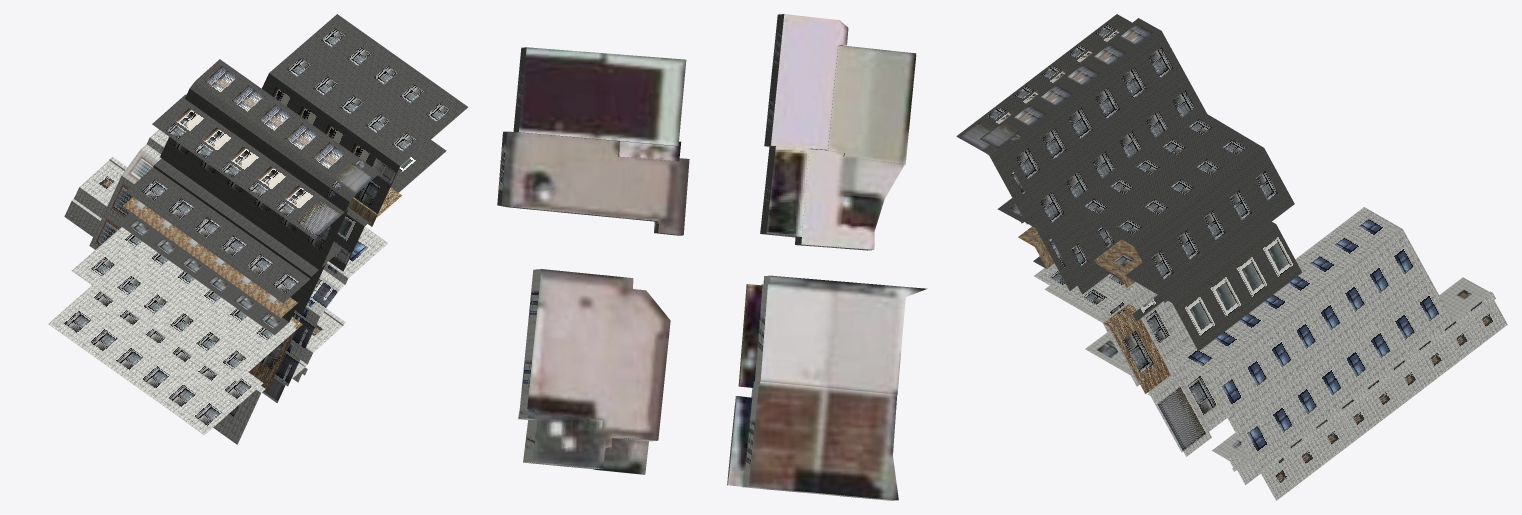
3 renders of one model, left to right at view 1: azimuth 30°, elevation 25°; view 2: azimuth 150°, elevation 25°; view 3: azimuth 270°, elevation 25°, orthographic. The views are drawn at different scales.
Bounding box in the file's own units: 45.3 × 45.86 × 54.6.
57 materials, 57 textured.
